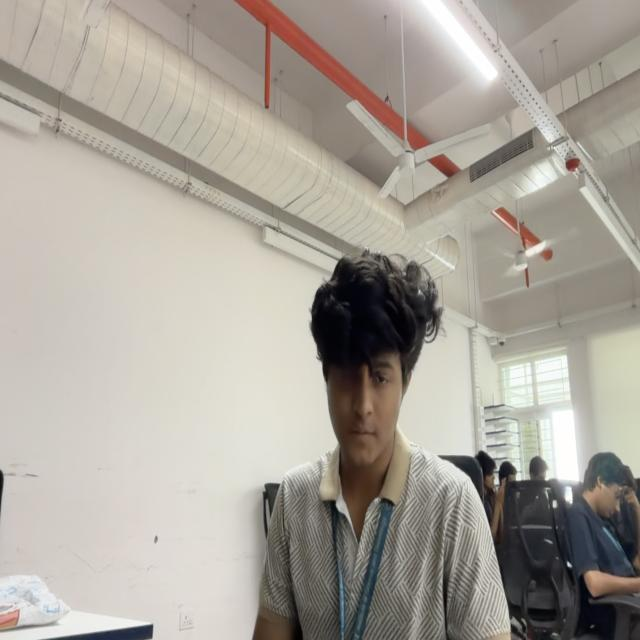kshitij: (312, 256, 438, 467)
